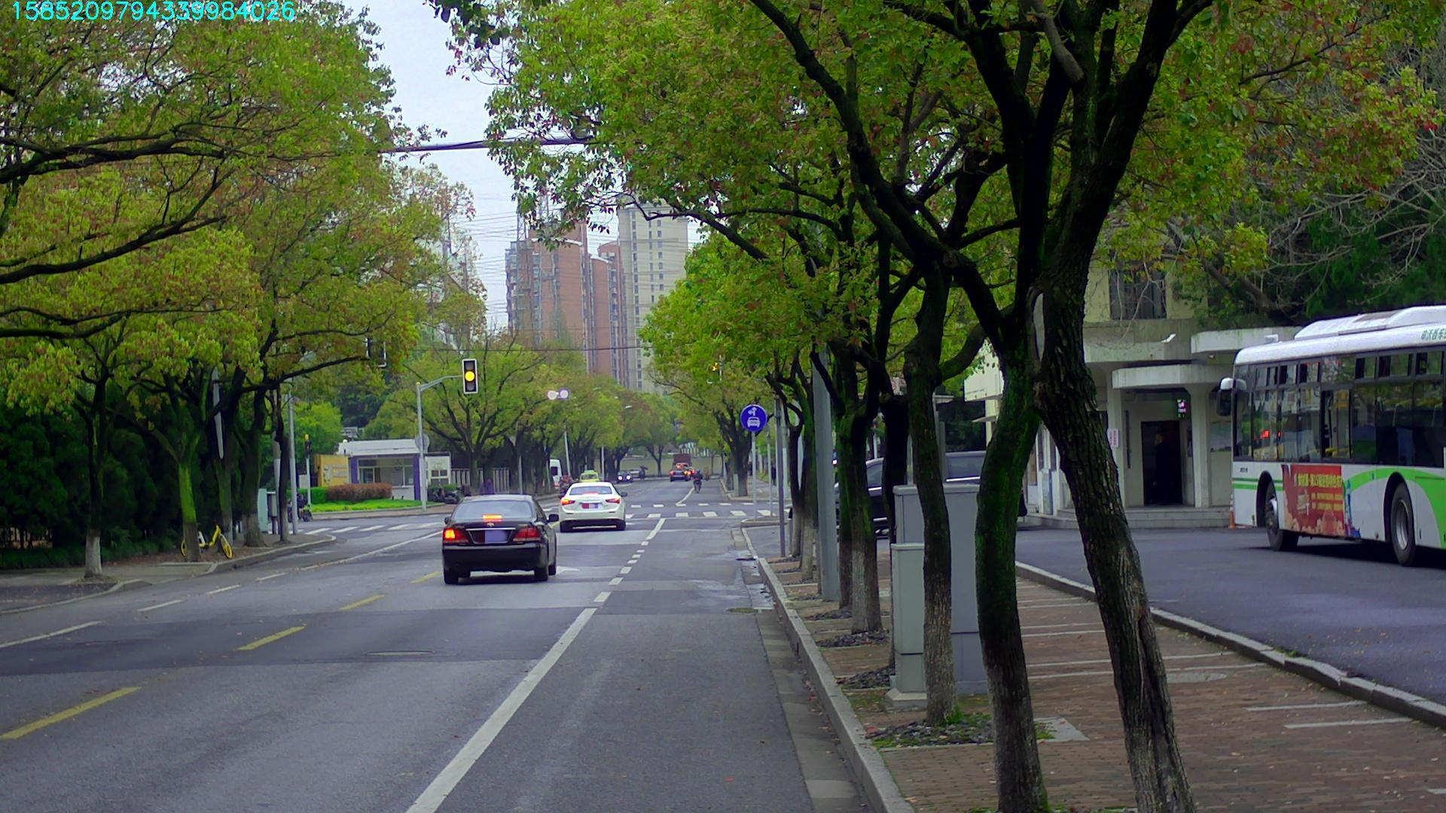yellow: (462, 359, 476, 392)
